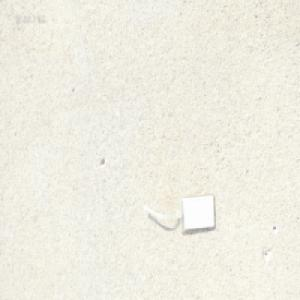LuggageTag: (143, 192, 216, 234)
